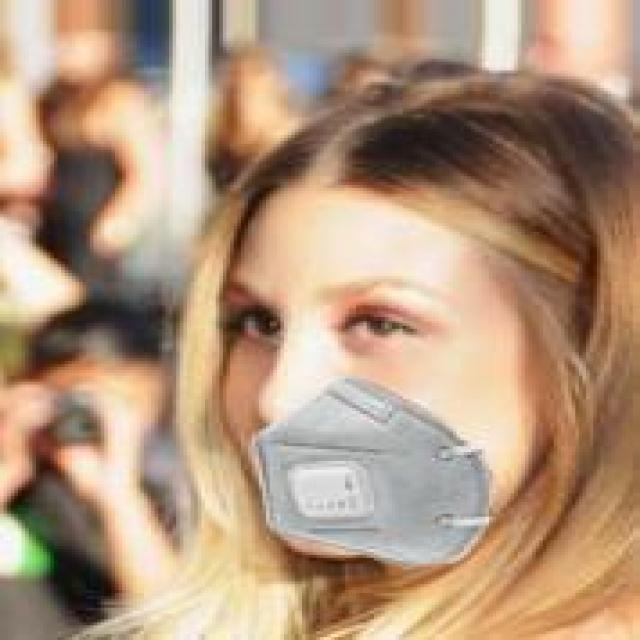mask: (194, 94, 604, 590)
